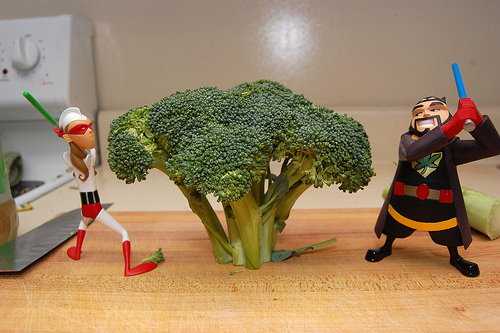broccoli: (104, 77, 375, 270)
